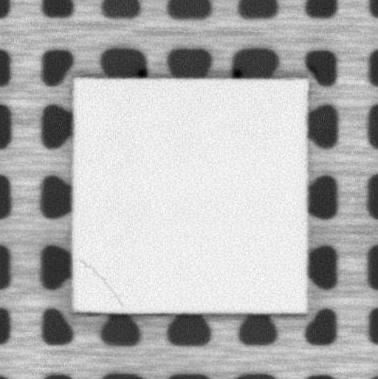DIE_CRACK: (79, 259, 125, 306)
